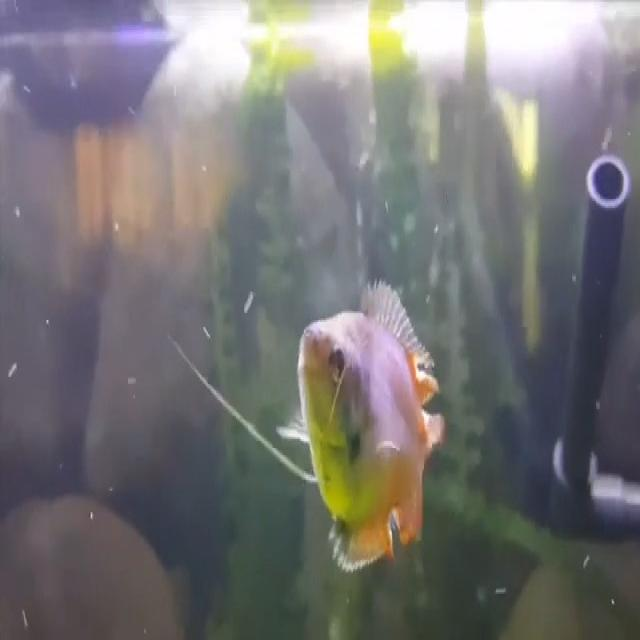fish: (293, 271, 450, 574)
